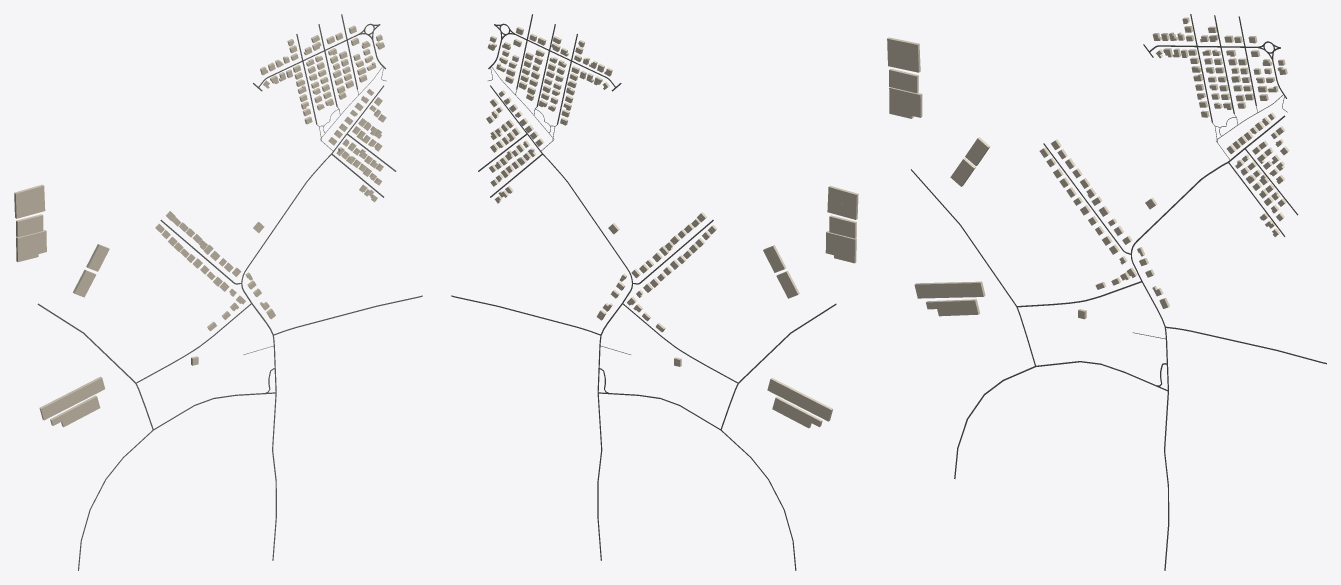
Rendered from historic-palestine-08_30_3500_3242.glb.
3 views of the same model, side by side, from view 1: azimuth 30°, elevation 25°; view 2: azimuth 150°, elevation 25°; view 3: azimuth 330°, elevation 25° (orthographic). The views are drawn at different scales.
Parts seen in each view (by area): view 1: Building_.005, Building_.002, Building_, Building_.006, Road הזית; view 2: Building_.005, Building_.002, Building_, Building_.006, Road הזית; view 3: Building_.005, Building_.002, Building_, Building_.006, Building_.001, Road הזית.
Boxes of the visible parts, left/top/right/bottom form: Building_.005: left=39, top=376, right=104, bottom=420; Building_.002: left=14, top=184, right=45, bottom=218; Building_: left=16, top=230, right=46, bottom=261; Building_.006: left=50, top=395, right=100, bottom=427; Road הזית: left=78, top=392, right=275, bottom=570; Building_.005: left=767, top=378, right=832, bottom=421; Building_.002: left=827, top=185, right=858, bottom=219; Building_: left=825, top=231, right=856, bottom=263; Building_.006: left=772, top=396, right=822, bottom=428; Road הזית: left=598, top=392, right=796, bottom=570; Building_.005: left=914, top=281, right=985, bottom=298; Building_.002: left=887, top=37, right=920, bottom=72; Building_: left=889, top=87, right=922, bottom=118; Building_.006: left=926, top=299, right=980, bottom=316; Building_.001: left=889, top=68, right=918, bottom=93; Road הזית: left=954, top=361, right=1167, bottom=478.
Bounding box in the file's own units: 1081 × 1345 × 8.7.
